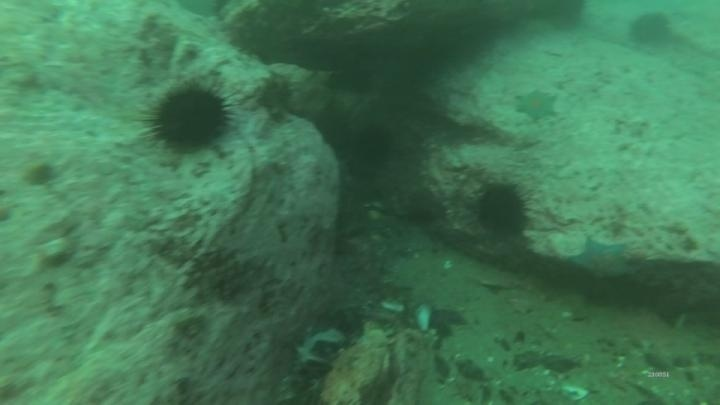echinus: (142, 79, 236, 157), (472, 179, 534, 241), (351, 121, 396, 170), (310, 108, 355, 157), (626, 10, 674, 49), (540, 1, 590, 35)
starfish: (566, 234, 634, 282), (513, 87, 560, 123)
